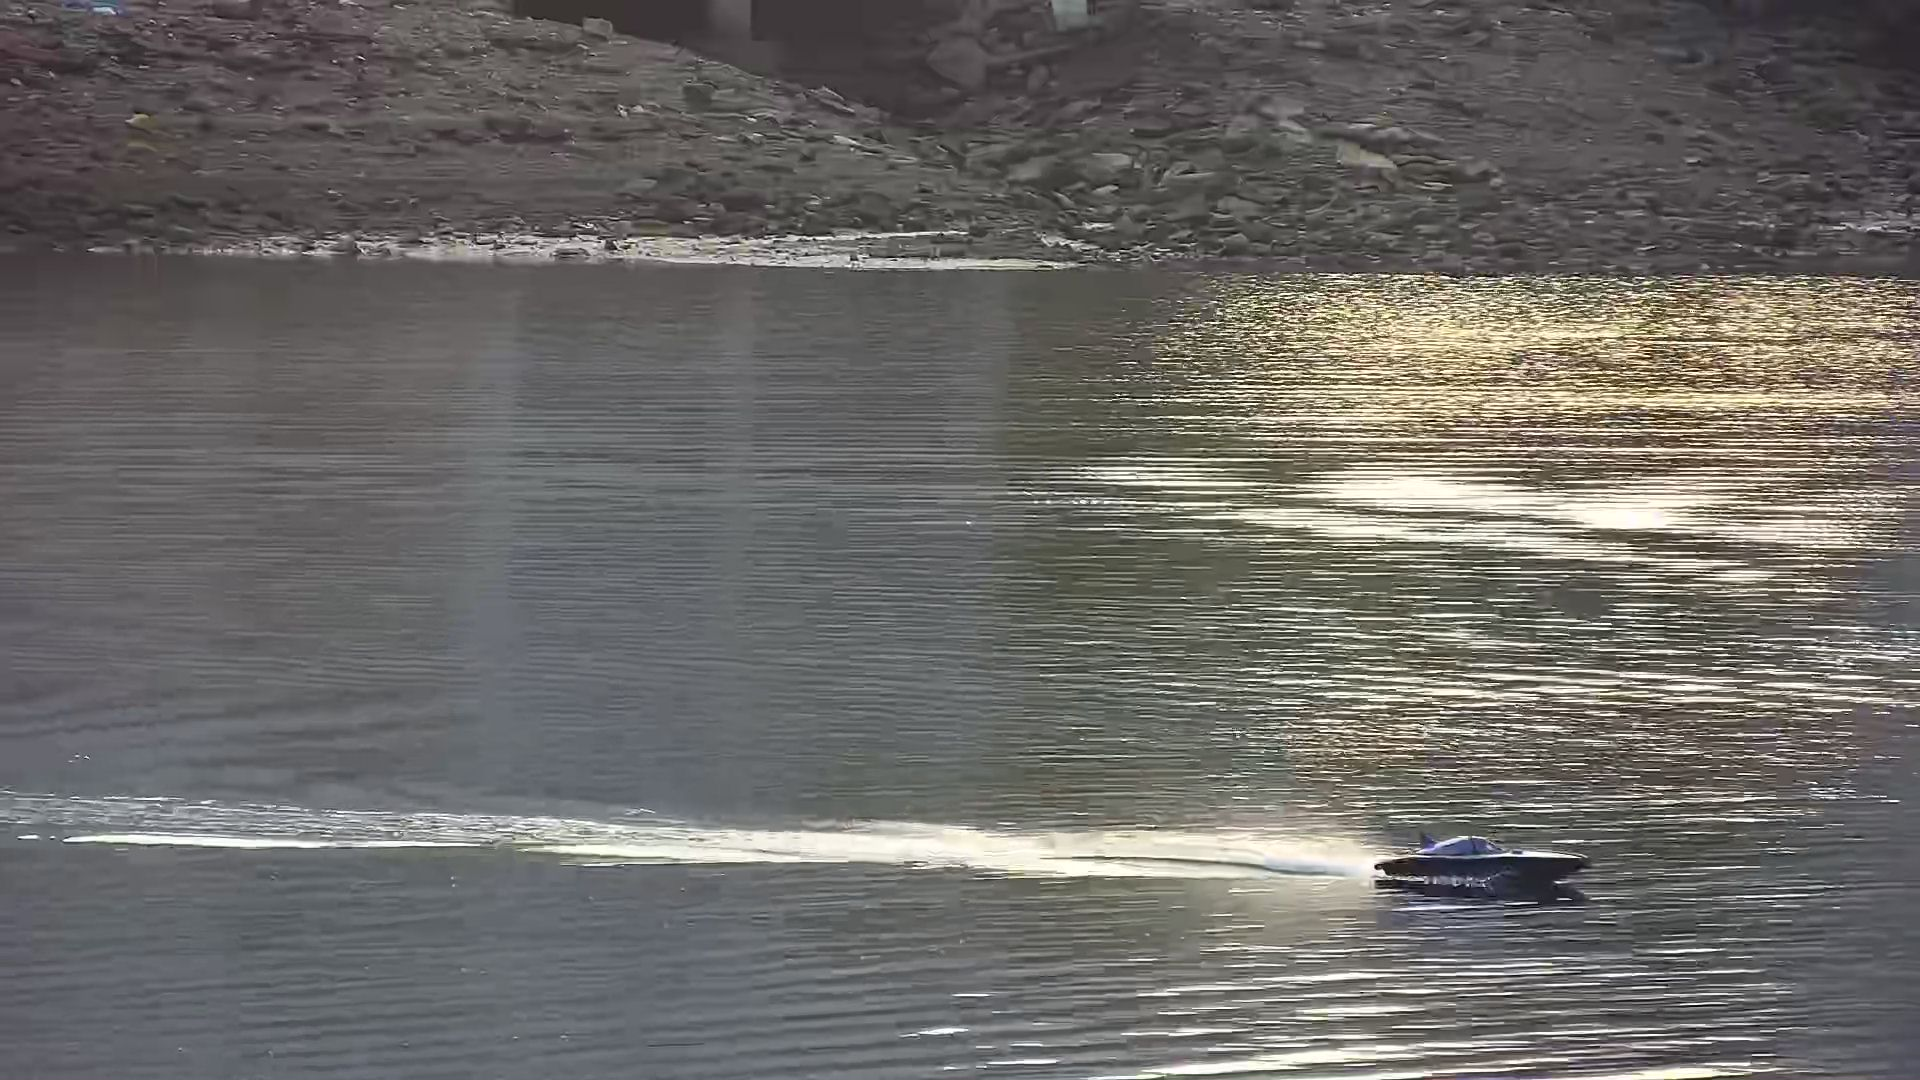boat: (1377, 829, 1592, 905)
